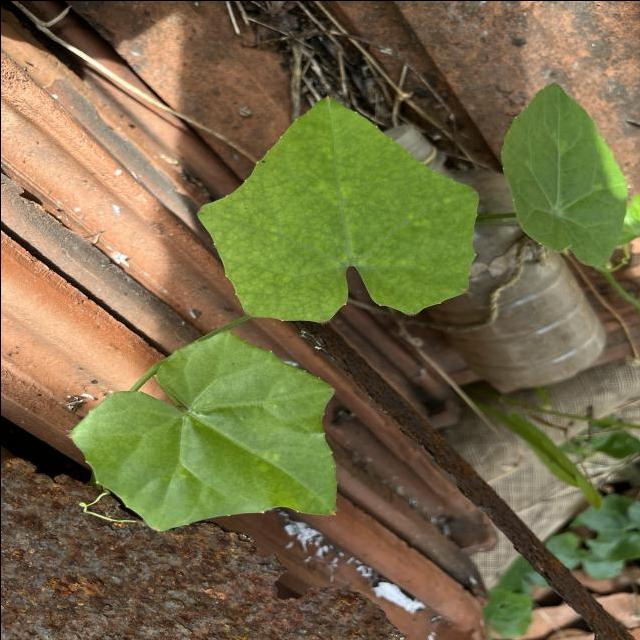Coccinia grandis: (193, 92, 479, 327), (68, 328, 338, 533)
